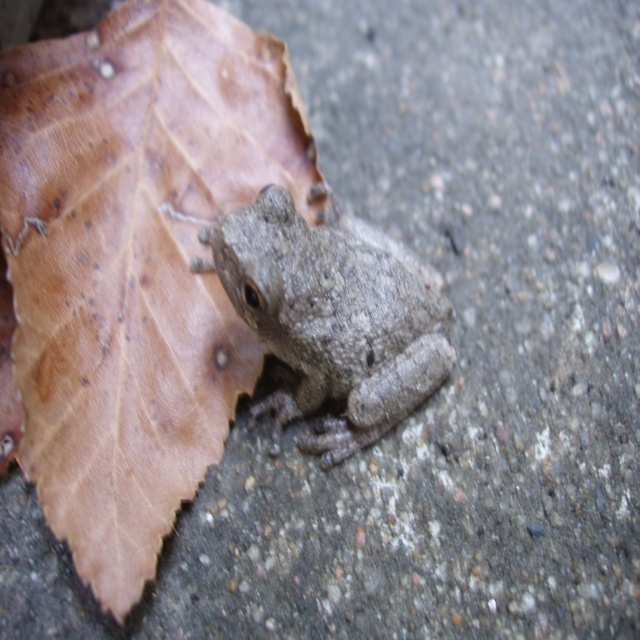Frog: (189, 181, 455, 468)
